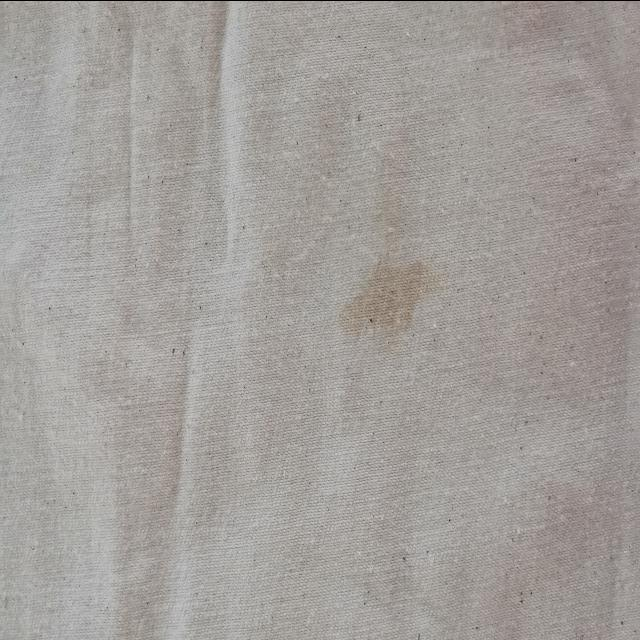taaaches: (339, 246, 446, 366)
